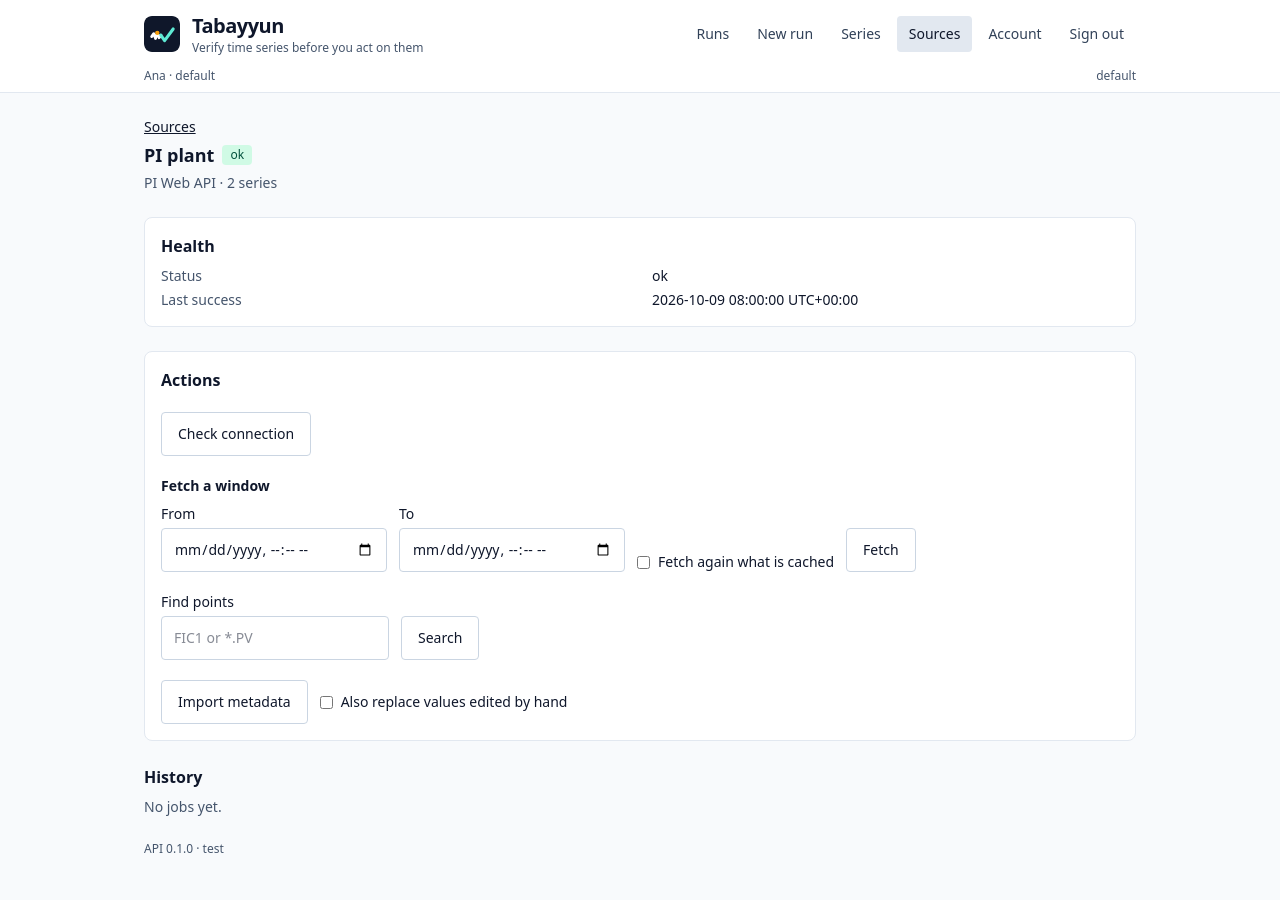
Test: SourceDetail › gives editors actions only, and follows a check to its end
The image size is (1280, 900).
What coordinates should you click on to do the following:
click the button "Check connection"
I would click on:
 (236, 434)
Its box is 161,412 -> 311,456.
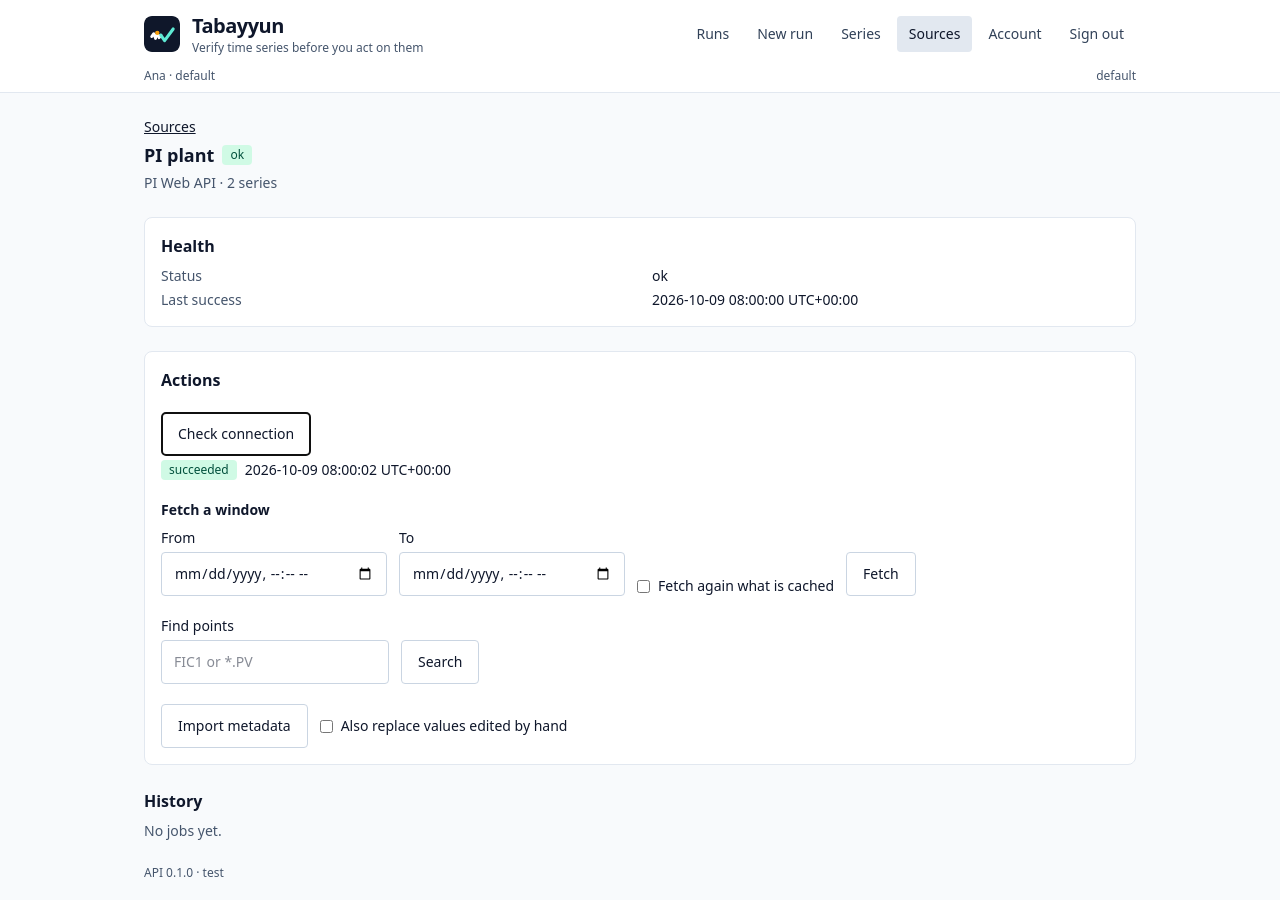
Result: the text "Waiting for the worker…" is shown at 245,460 -> 451,480
Result: the text "succeeded" is shown at 161,460 -> 237,480
